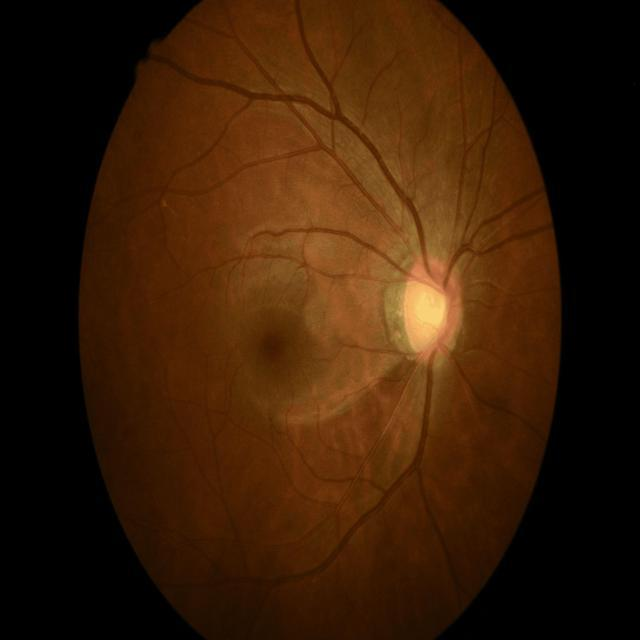cup: (409, 280, 451, 350)
disk: (401, 252, 464, 365)
